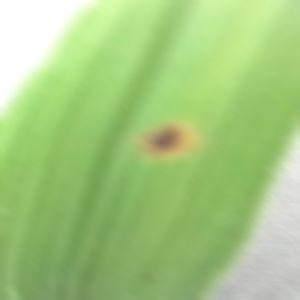Bacterial_Leaf_Blight: (134, 114, 197, 165), (135, 269, 162, 288)
